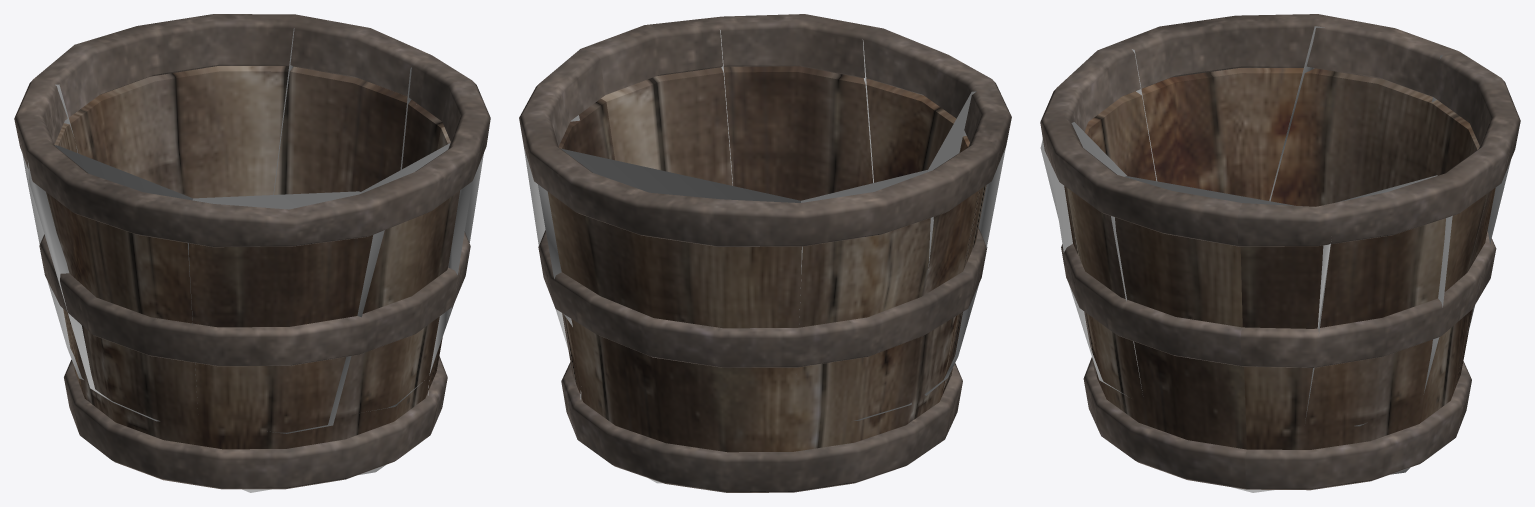
File: SM_Wooden_Bucket_01a.gltf
3 views of the same model, side by side, from view 1: azimuth 30°, elevation 25°; view 2: azimuth 150°, elevation 25°; view 3: azimuth 270°, elevation 25° (orthographic). The views are drawn at different scales.
Visible parts, largest first — view 1: SM_Wooden_Bucket_01a, SM_Wooden_Bucket_01a_ConvexHulls; view 2: SM_Wooden_Bucket_01a, SM_Wooden_Bucket_01a_ConvexHulls; view 3: SM_Wooden_Bucket_01a, SM_Wooden_Bucket_01a_ConvexHulls.
Boxes of the visible parts, x1,y1,x2,y2 form: SM_Wooden_Bucket_01a: [14, 14, 490, 489]; SM_Wooden_Bucket_01a_ConvexHulls: [21, 28, 483, 492]; SM_Wooden_Bucket_01a: [519, 14, 1011, 492]; SM_Wooden_Bucket_01a_ConvexHulls: [523, 30, 1007, 483]; SM_Wooden_Bucket_01a: [1040, 14, 1520, 490]; SM_Wooden_Bucket_01a_ConvexHulls: [1040, 26, 1510, 492].
Size of the model in its own units: 0.5224 by 0.372 by 0.5304.
Materials: 3 (2 with a texture image).
